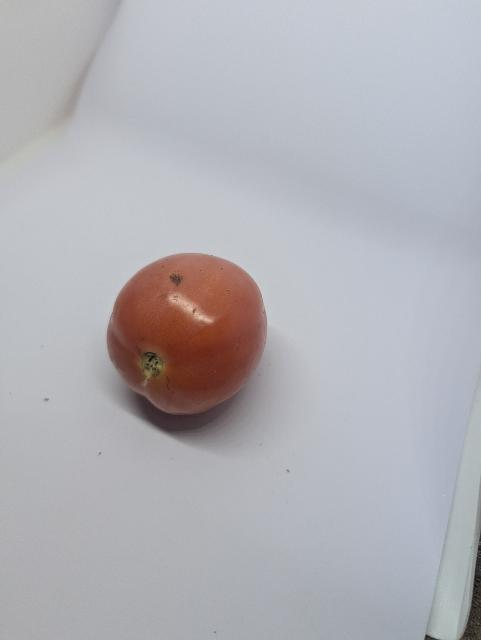red: (102, 243, 279, 423)
